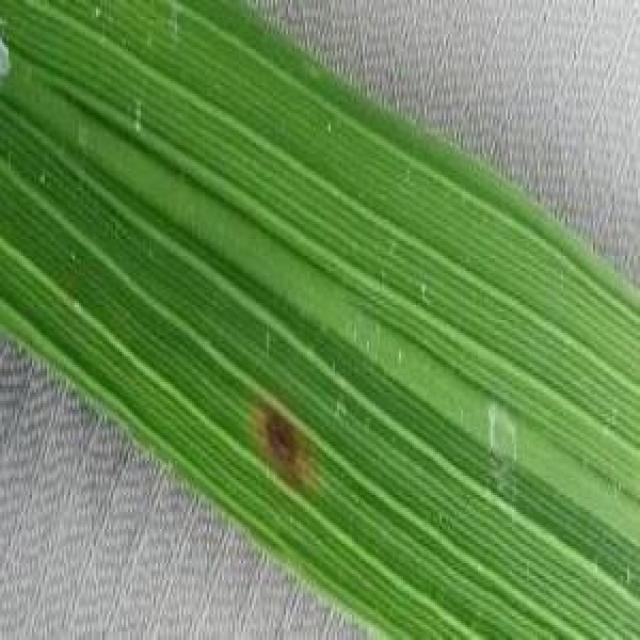brownspots: (243, 405, 318, 478)
